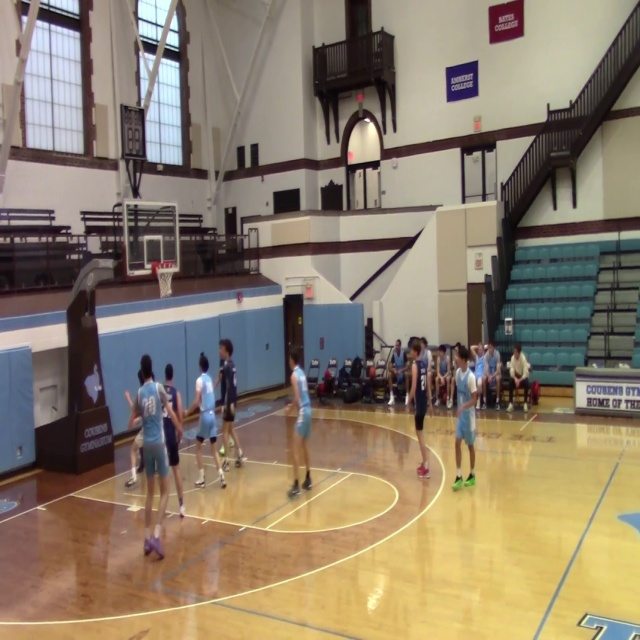Basketball: (218, 446, 226, 455)
